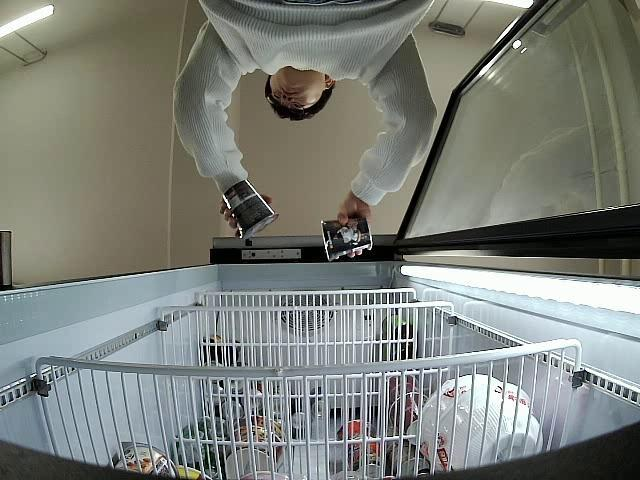08_buldak_S: (223, 180, 280, 242), (320, 216, 374, 262)
